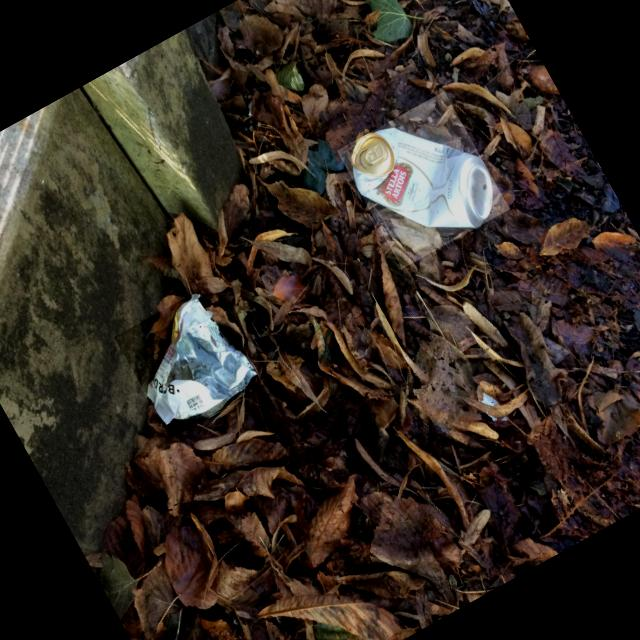Drink can: (352, 128, 493, 228)
Other plastic: (148, 293, 258, 426)
Pop tab: (366, 144, 385, 163)
